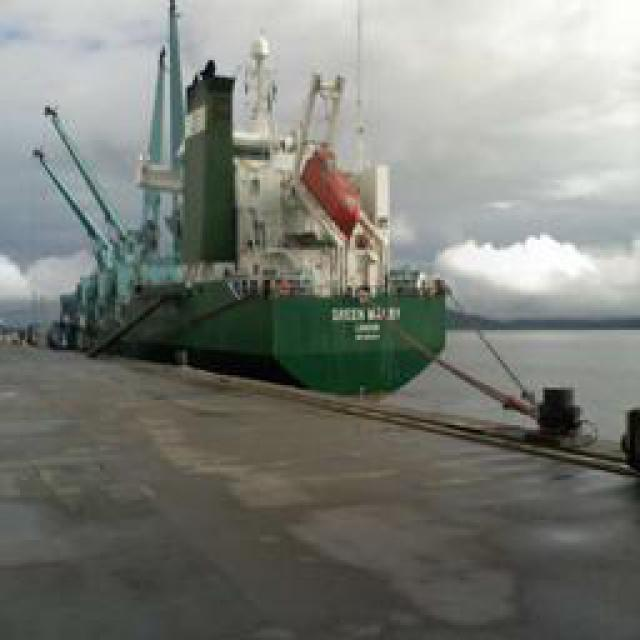Ship: (2, 14, 470, 414)
